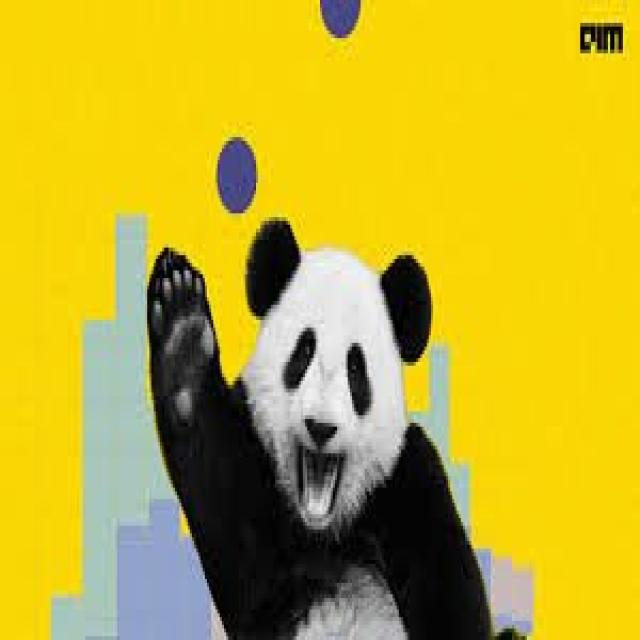Panda: (136, 221, 488, 640)
